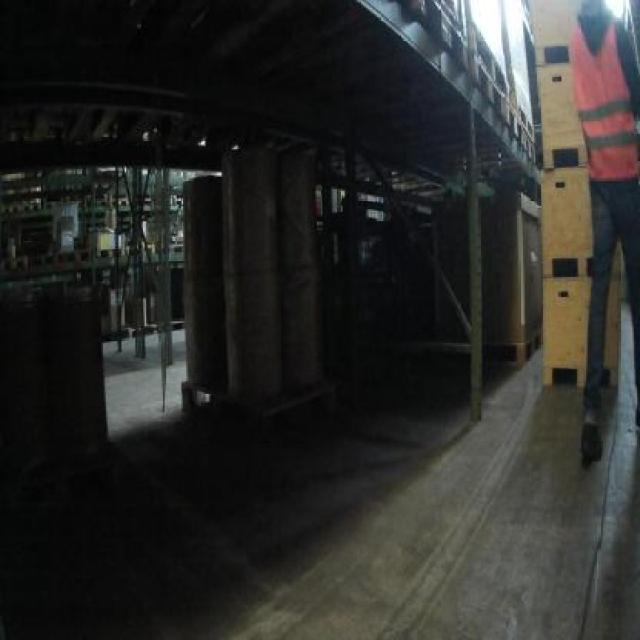ground: (0, 311, 638, 638)
pallet: (174, 379, 348, 443), (386, 0, 471, 76), (465, 18, 513, 131), (539, 354, 623, 392), (536, 248, 626, 280), (514, 95, 543, 169), (536, 138, 590, 172), (528, 37, 574, 69)
